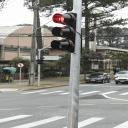NoSeguir: (17, 63, 24, 67)
